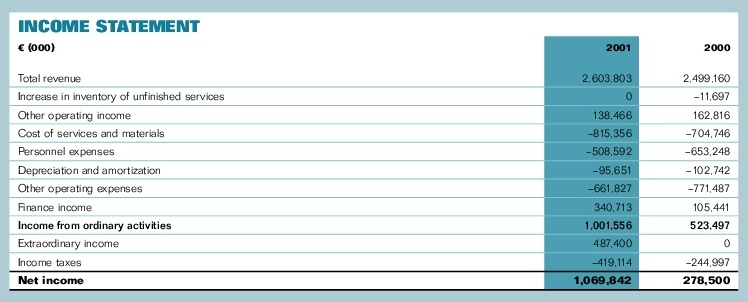table: (0, 0, 748, 302)
